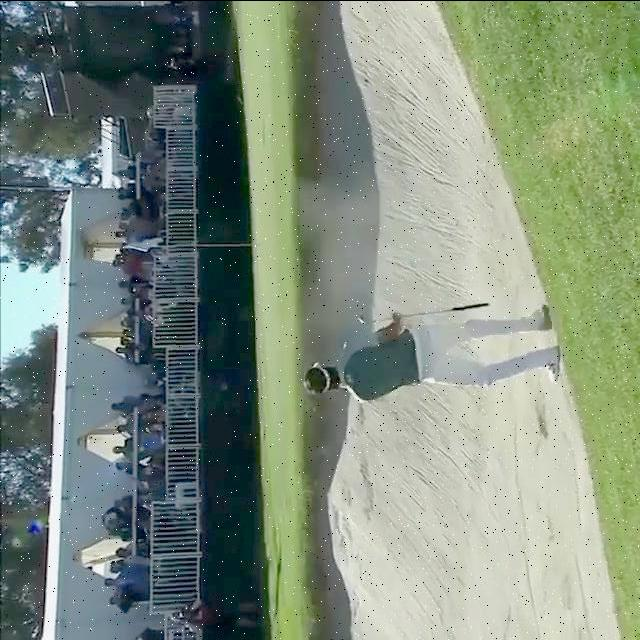ClubHandle: (358, 302, 490, 323)
ClubHead: (358, 314, 366, 323)
